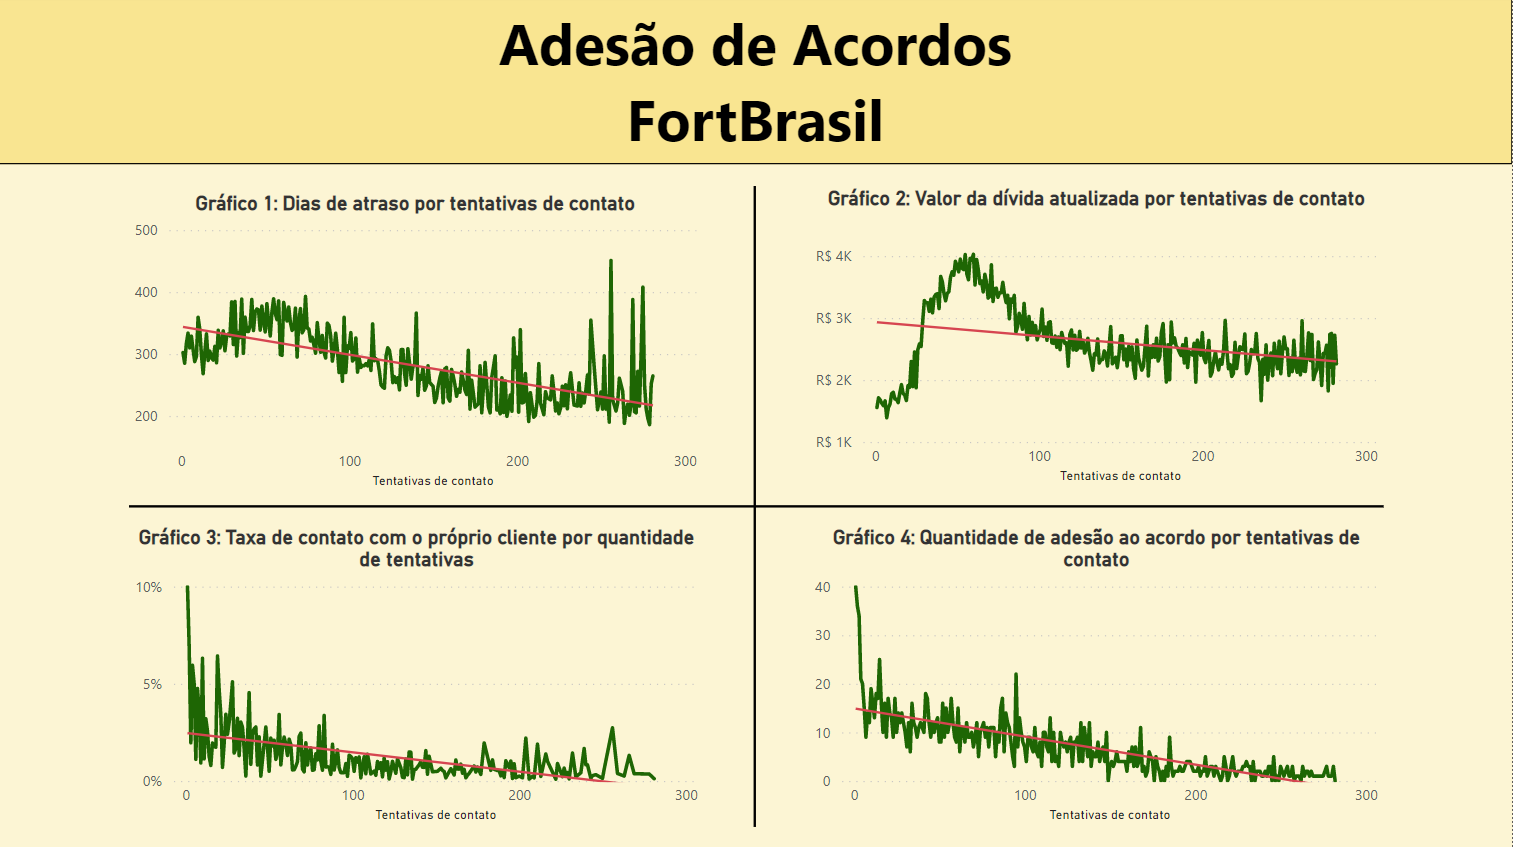

The dashboard page shown, as its layout file describes it:
{"tool":"powerbi","page":{"name":"Gráficos","canvas":[1280,720],"ordinal":1},"visuals":[{"type":"textbox","box":[0,0,1280,142.3],"z":0},{"type":"lineChart","title":"Gráfico 4: Quantidade de adesão ao acordo por tentativas de contato","fields":{"Y":["Q2_DividaFinal.RESPOSTA"],"Category":["Q2_DividaFinal.QTD_ACIONAMENTO"]},"box":[685.9,446.4,485.4,255.4],"z":1000},{"type":"lineChart","title":"Gráfico 3: Taxa de contato com o próprio cliente por quantidade de tentativas","fields":{"Y":["Q2_DividaFinal.PERC_CPC"],"Category":["Q2_DividaFinal.QTD_ACIONAMENTO"]},"box":[111.9,446.4,485.4,255.4],"z":2000},{"type":"lineChart","title":"Gráfico 1: Dias de atraso por tentativas de contato","fields":{"Y":["Q2_DividaFinal.NU_DIAS_ATRASO"],"Category":["Q2_DividaFinal.QTD_ACIONAMENTO"]},"box":[111.4,164.3,485.1,255.1],"z":3000},{"type":"lineChart","title":"Gráfico 2: Valor da dívida atualizada por tentativas de contato","fields":{"Category":["Q2_DividaFinal.QTD_ACIONAMENTO"],"Y":["Q2_DividaFinal.DIVIDA_FINAL"]},"box":[685.9,160.4,485.4,255.4],"z":4000},{"type":"shape","box":[612,160.4,57,541.3],"z":5000},{"type":"shape","box":[111.9,402,1059.5,58],"z":6000}]}

Visuals, with their boxes in screenshot pixels (x1, y1, x2, y2), scaled from the page's 1280x720 canvas onto the 1513x847 screenshot:
textbox: l=0, t=0, r=1512, b=167
"Gráfico 4: Quantidade de adesão ao acordo por tentativas de contato" lineChart: l=811, t=525, r=1385, b=826
"Gráfico 3: Taxa de contato com o próprio cliente por quantidade de tentativas" lineChart: l=132, t=525, r=706, b=826
"Gráfico 1: Dias de atraso por tentativas de contato" lineChart: l=132, t=193, r=705, b=493
"Gráfico 2: Valor da dívida atualizada por tentativas de contato" lineChart: l=811, t=189, r=1385, b=489
shape: l=723, t=189, r=791, b=825
shape: l=132, t=473, r=1385, b=541
